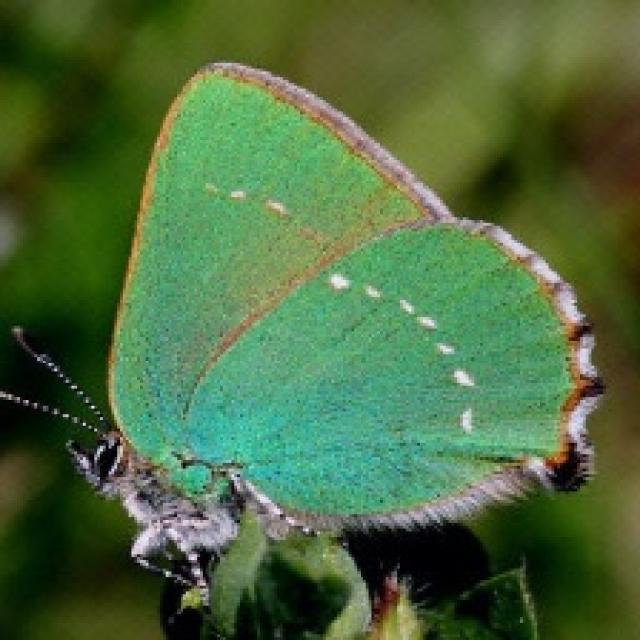butterfly: (0, 57, 606, 637)
